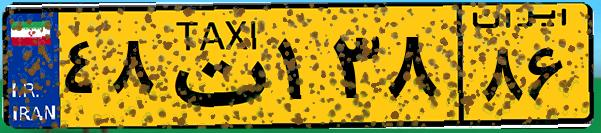1: (270, 28, 330, 110)
3: (330, 28, 385, 110)
4: (57, 26, 110, 100)
6: (525, 38, 570, 115)
8: (385, 28, 445, 110), (475, 38, 525, 113), (110, 28, 158, 98)
ت: (158, 12, 270, 120)
